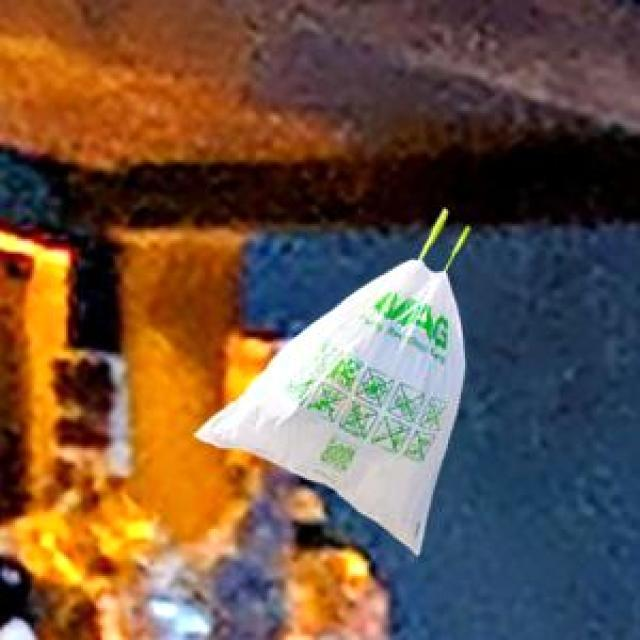Plastic_Bag: (193, 206, 466, 552)
